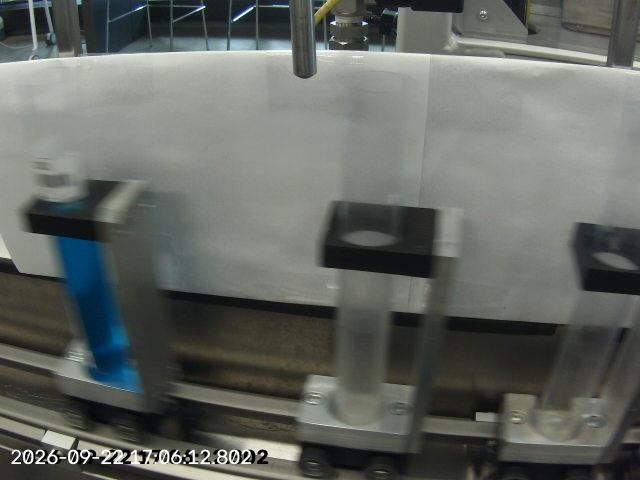vial: (11, 61, 142, 395), (332, 65, 410, 429)
